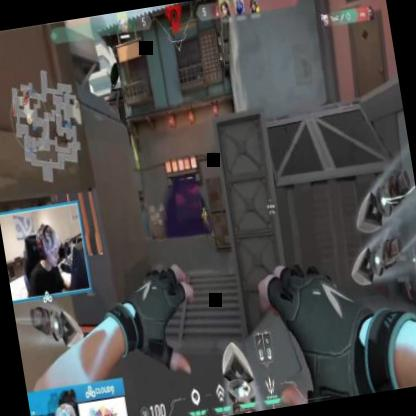enemy: (200, 206, 210, 233)
enemy_head: (202, 208, 204, 212)
